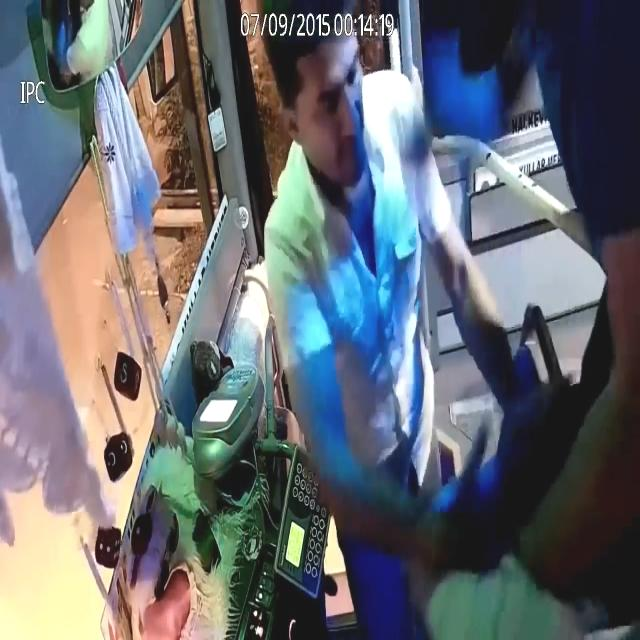fight: (250, 0, 580, 640), (425, 3, 640, 639)
